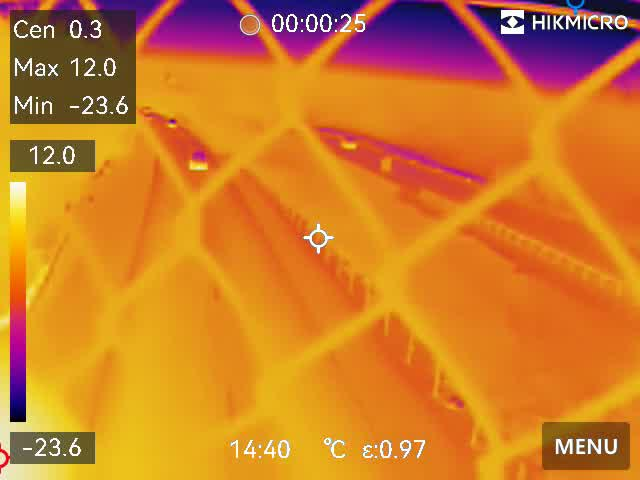vehicle: (181, 146, 212, 178), (338, 134, 362, 155), (165, 112, 180, 130), (141, 102, 155, 117)
